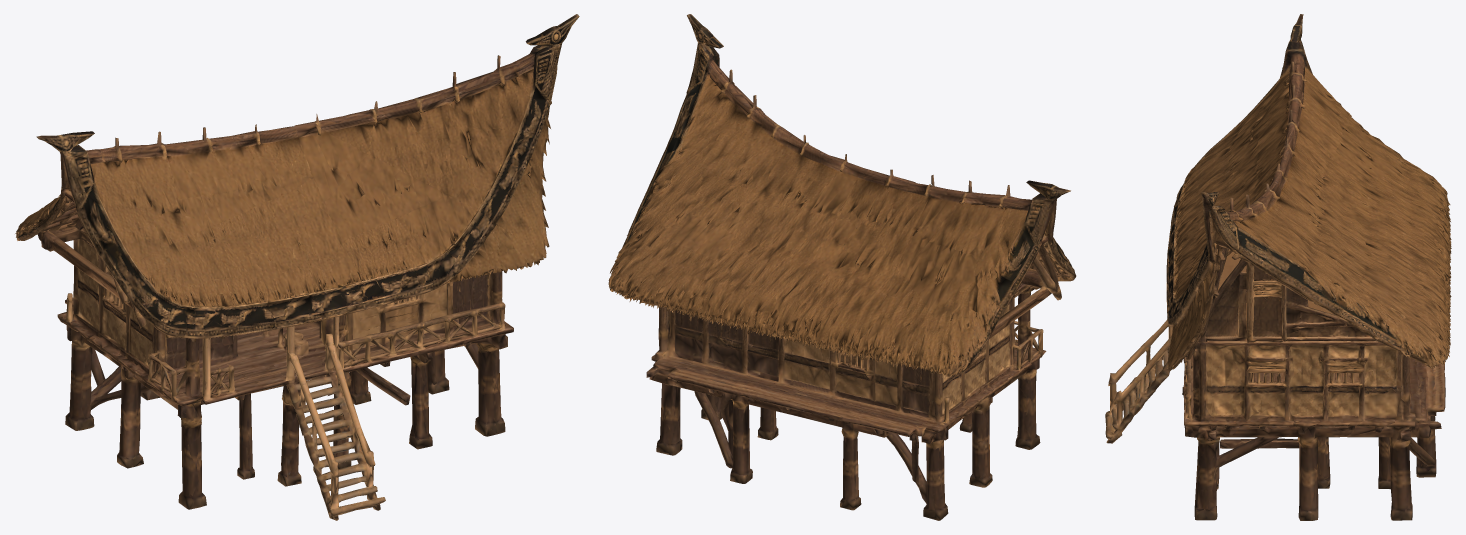
Rendered from Meshy_AI_Hornbill_Stilt_House_texture_remesh_tri.obj.
The picture shows the model from 3 angles, left to right: view 1: azimuth 30°, elevation 25°; view 2: azimuth 150°, elevation 25°; view 3: azimuth 270°, elevation 25°; orthographic projection. The views are drawn at different scales.
Visible parts, largest first — view 1: Meshy_AI_Hornbill_Stilt_House_texture_remesh_tri; view 2: Meshy_AI_Hornbill_Stilt_House_texture_remesh_tri; view 3: Meshy_AI_Hornbill_Stilt_House_texture_remesh_tri.
Part boxes in pixels (x1,y1,x2,y2): Meshy_AI_Hornbill_Stilt_House_texture_remesh_tri: (15, 14, 579, 520); Meshy_AI_Hornbill_Stilt_House_texture_remesh_tri: (608, 14, 1076, 520); Meshy_AI_Hornbill_Stilt_House_texture_remesh_tri: (1105, 14, 1451, 520).
Bounding box in the file's own units: 1.9 × 1.47 × 1.27.
1 material, 1 textured.
